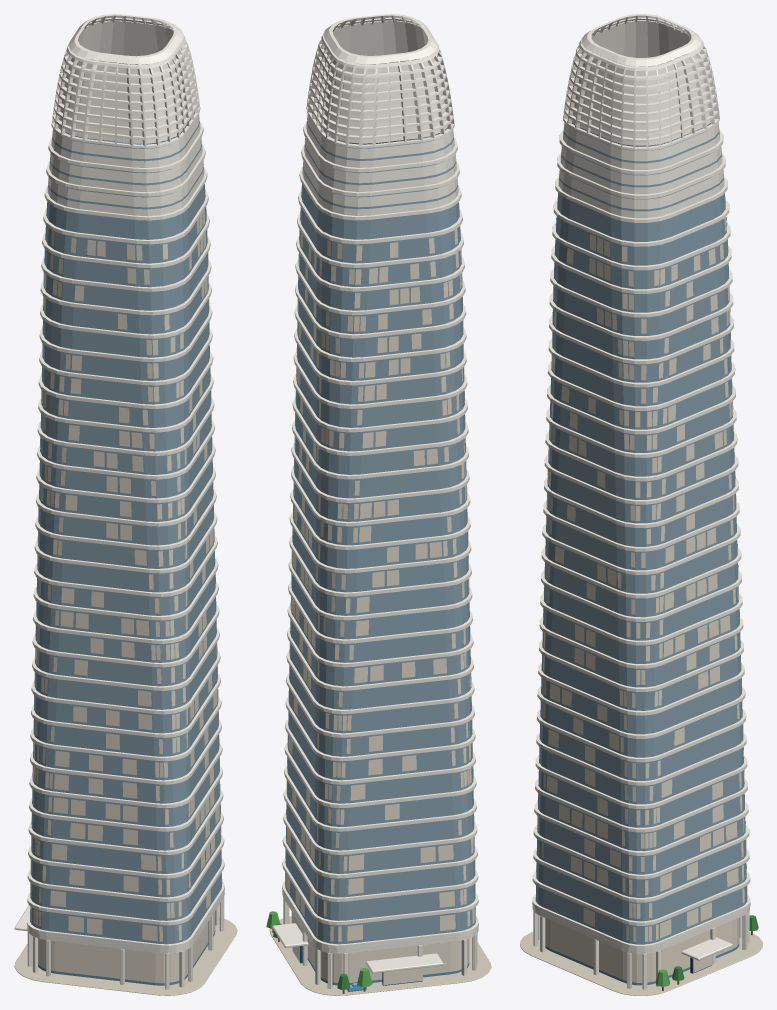
Rendered from salesforce-tower.glb.
3 renders of one model, left to right at view 1: azimuth 30°, elevation 25°; view 2: azimuth 150°, elevation 25°; view 3: azimuth 270°, elevation 25°, orthographic.
Parts seen in each view (by area): view 1: salesforce-tower_body, salesforce-tower_night_glow; view 2: salesforce-tower_body, salesforce-tower_night_glow; view 3: salesforce-tower_body, salesforce-tower_night_glow.
Part boxes in pixels (x1,y1,x2,y2): salesforce-tower_body: [14, 14, 237, 995]; salesforce-tower_night_glow: [30, 21, 222, 983]; salesforce-tower_body: [266, 14, 491, 995]; salesforce-tower_night_glow: [285, 21, 476, 985]; salesforce-tower_body: [520, 14, 762, 995]; salesforce-tower_night_glow: [536, 21, 747, 982].
Size of the model in its own units: 79 by 326 by 79.
